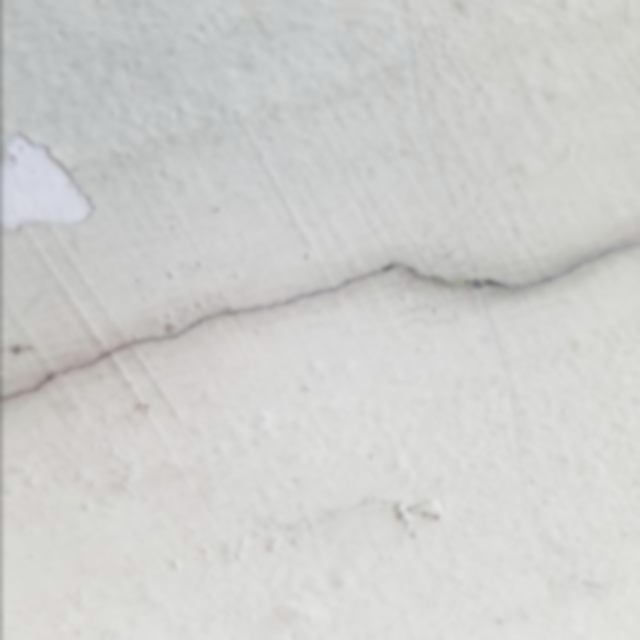SurfaceCrack: (0, 206, 639, 442)
